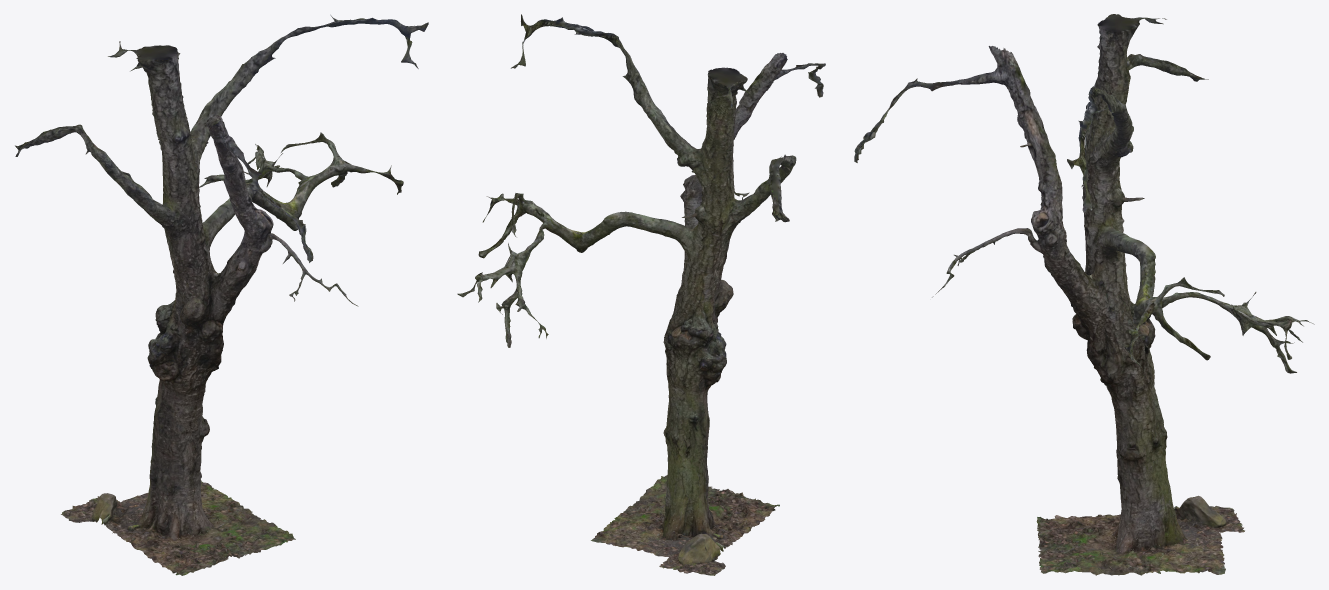
File: sf-cherry-tree-232e1f.glb
3 views of the same model, side by side, from view 1: azimuth 30°, elevation 25°; view 2: azimuth 150°, elevation 25°; view 3: azimuth 270°, elevation 25° (orthographic). The views are drawn at different scales.
Visible parts, largest first — view 1: meshNode_Material_u2_v1_0, meshNode_Material_u1_v1_0; view 2: meshNode_Material_u1_v1_0, meshNode_Material_u2_v1_0; view 3: meshNode_Material_u1_v1_0, meshNode_Material_u2_v1_0.
Part boxes in pixels (left/top/right/bottom): meshNode_Material_u2_v1_0: left=61, top=14, right=428, bottom=540; meshNode_Material_u1_v1_0: left=15, top=18, right=428, bottom=575; meshNode_Material_u1_v1_0: left=457, top=14, right=825, bottom=575; meshNode_Material_u2_v1_0: left=477, top=17, right=776, bottom=575; meshNode_Material_u1_v1_0: left=854, top=14, right=1314, bottom=575; meshNode_Material_u2_v1_0: left=998, top=26, right=1292, bottom=551.
Size of the model in its own units: 2.85 by 3.76 by 3.09.
Materials: 2 (2 with a texture image).
